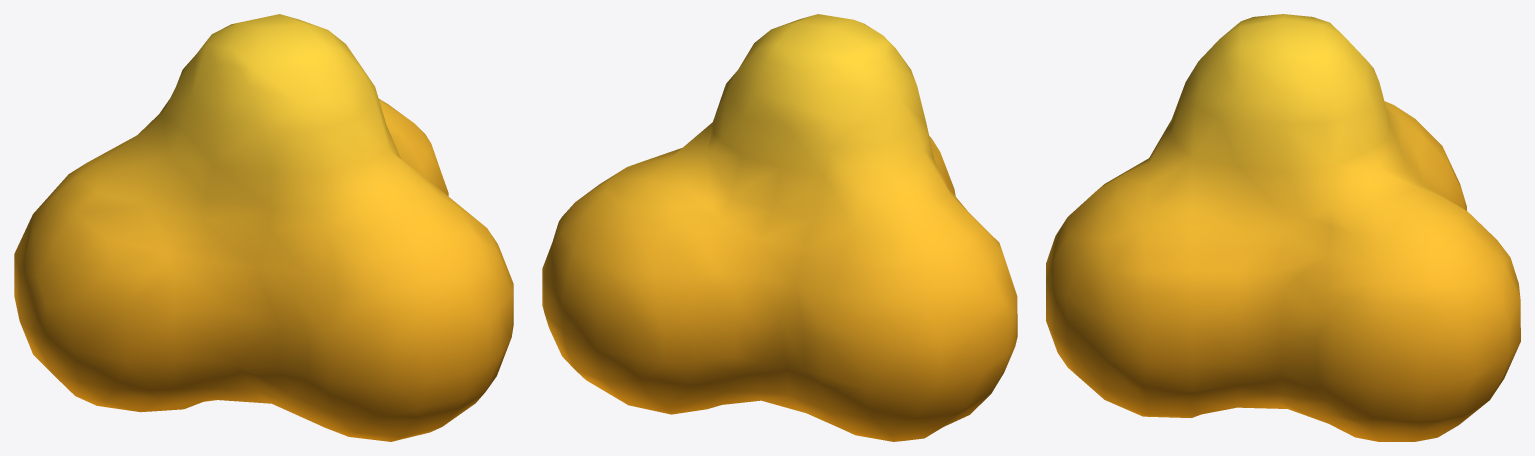
File: Mesh_ParticlesBullet_01.fbx
3 views of the same model, side by side, from view 1: azimuth 30°, elevation 25°; view 2: azimuth 150°, elevation 25°; view 3: azimuth 270°, elevation 25° (orthographic). The views are drawn at different scales.
Visible parts, largest first — view 1: Mesh_ParticleBullet_01; view 2: Mesh_ParticleBullet_01; view 3: Mesh_ParticleBullet_01.
Boxes of the visible parts, bbox=[...] form: Mesh_ParticleBullet_01: bbox=[14, 14, 513, 441]; Mesh_ParticleBullet_01: bbox=[542, 14, 1017, 441]; Mesh_ParticleBullet_01: bbox=[1046, 14, 1520, 441].
Bounding box in the file's own units: 83.89 × 83.55 × 69.35.
